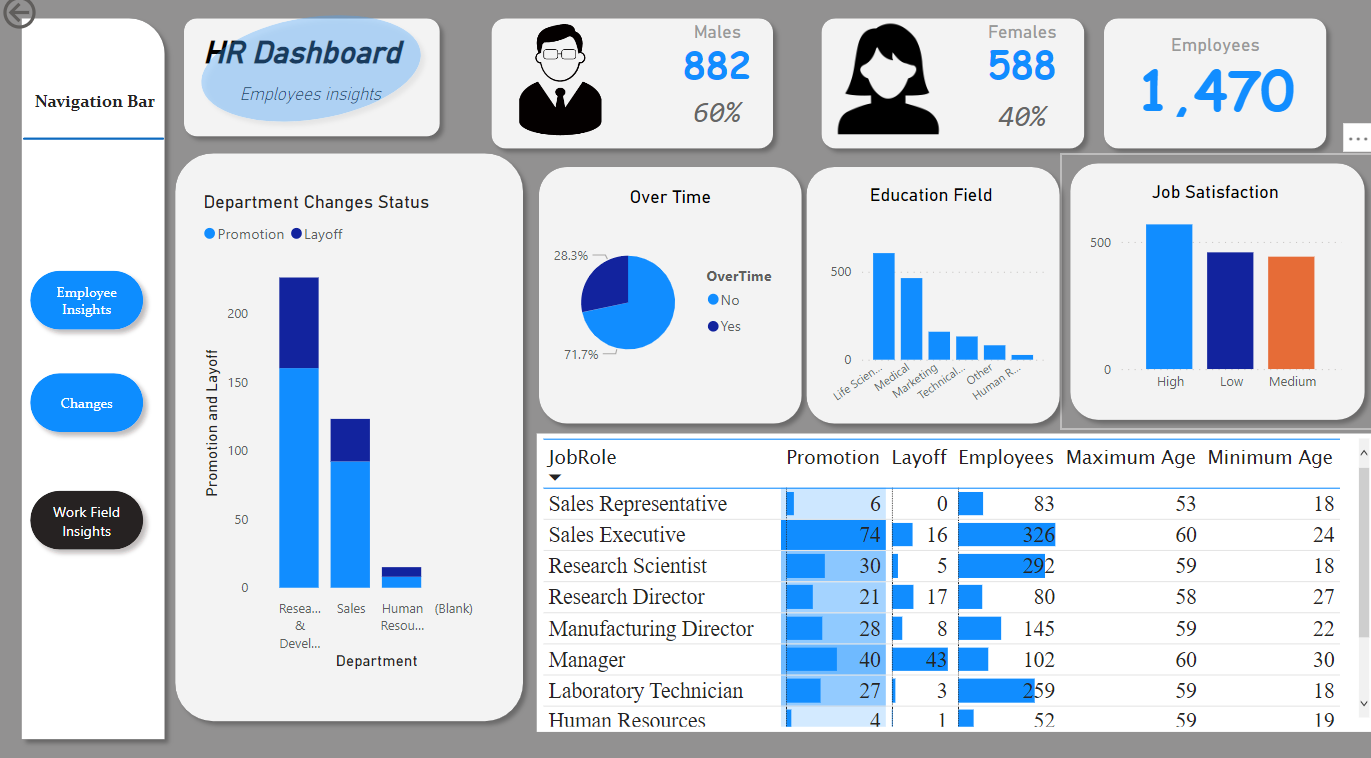

This screenshot's page, from the dashboard's own definition file:
{"tool":"powerbi","page":{"name":"Changes","canvas":[1280,720],"ordinal":1},"visuals":[{"type":"shape","box":[12.5,16.2,151.2,688.8],"z":0},{"type":"shape","box":[164,16.3,255.8,127.9],"z":1000},{"type":"shape","box":[459.3,10.5,280.2,139.5],"z":2000},{"type":"shape","box":[757,1.2,262.8,139.5],"z":3000},{"type":"shape","box":[1019.8,1.2,224.4,139.5],"z":4000},{"type":"textbox","box":[186,34.9,219.8,54.7],"z":5000},{"type":"textbox","box":[219.8,80.2,161.6,39.5],"z":6000},{"type":"shape","box":[88.4,0,405.8,141.9],"z":7000},{"type":"card","title":"Employees ","fields":{"Values":["measures (2).total_emp"]},"box":[1043,27.9,179.1,82.6],"z":8000},{"type":"card","title":"Females","fields":{"Values":["measures (2).Female"]},"box":[901.2,27.9,103.5,61.6],"z":9000},{"type":"card","title":"Females","fields":{"Values":["measures (2).female_prec"]},"box":[901.2,90.7,103.5,51.2],"z":10000},{"type":"card","title":"Females","fields":{"Values":["measures (2).male_prec"]},"box":[617.4,87.2,102.3,51.2],"z":11000},{"type":"card","title":"Males","fields":{"Values":["measures (2).males"]},"box":[617.4,27.9,103.5,62.8],"z":12000},{"type":"image","box":[459.3,24.4,131.4,116.3],"z":13000},{"type":"image","box":[765.1,12.8,123.3,116.3],"z":14000},{"type":"actionButton","box":[0,0,100,40],"z":15000},{"type":"tableEx","fields":{"Values":["HR Analytics Data.Emplyee name","measures (2).Needs_Promotion"]},"box":[164,145.3,295.3,548.8],"z":16000},{"type":"tableEx","fields":{"Values":["HR Analytics Data.Emplyee name","measures (2).Layoff"]},"box":[473.3,150,266.3,548.8],"z":17000},{"type":"pageNavigator","box":[20.9,251.2,123.3,73.3],"z":18000},{"type":"pageNavigator","box":[20.9,346.5,123.3,73.3],"z":19000},{"type":"pageNavigator","box":[20.9,455.8,123.3,73.3],"z":20000},{"type":"textbox","box":[17.4,89.5,137.2,31.4],"z":21000},{"type":"shape","box":[23.3,132.6,131.4,9.3],"z":22000},{"type":"shape","box":[1019.8,138.4,224.4,565.1],"z":23000},{"type":"textbox","box":[1038.4,167.4,187.2,489.5],"z":24000},{"type":"tableEx","fields":{"Values":["Sheet1.Service Binfits"]},"box":[757,144.2,247.7,560.5],"z":25000}]}

Visuals, with their boxes on the page's 1280x720 design canvas (x1, y1, x2, y2). These are canvas units, not pixel positions in the 1371x758 screenshot, which may show the page scaled, cropped or inside an application window:
shape: region(12, 16, 164, 705)
shape: region(164, 16, 420, 144)
shape: region(459, 10, 740, 150)
shape: region(757, 1, 1020, 141)
shape: region(1020, 1, 1244, 141)
textbox: region(186, 35, 406, 90)
textbox: region(220, 80, 381, 120)
shape: region(88, 0, 494, 142)
"Employees " card: region(1043, 28, 1222, 110)
"Females" card: region(901, 28, 1005, 90)
"Females" card: region(901, 91, 1005, 142)
"Females" card: region(617, 87, 720, 138)
"Males" card: region(617, 28, 721, 91)
image: region(459, 24, 591, 141)
image: region(765, 13, 888, 129)
actionButton: region(0, 0, 100, 40)
tableEx - HR Analytics Data.Emplyee name x measures (2).Needs_Promotion: region(164, 145, 459, 694)
tableEx - HR Analytics Data.Emplyee name x measures (2).Layoff: region(473, 150, 740, 699)
pageNavigator: region(21, 251, 144, 324)
pageNavigator: region(21, 346, 144, 420)
pageNavigator: region(21, 456, 144, 529)
textbox: region(17, 90, 155, 121)
shape: region(23, 133, 155, 142)
shape: region(1020, 138, 1244, 704)
textbox: region(1038, 167, 1226, 657)
tableEx - Sheet1.Service Binfits: region(757, 144, 1005, 705)
